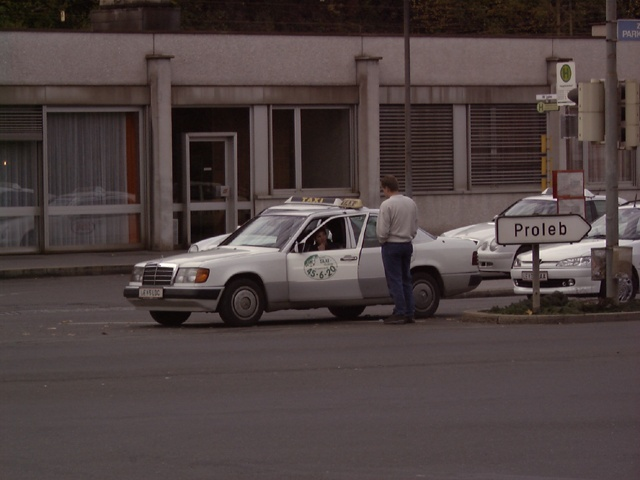person: (369, 172, 424, 324)
